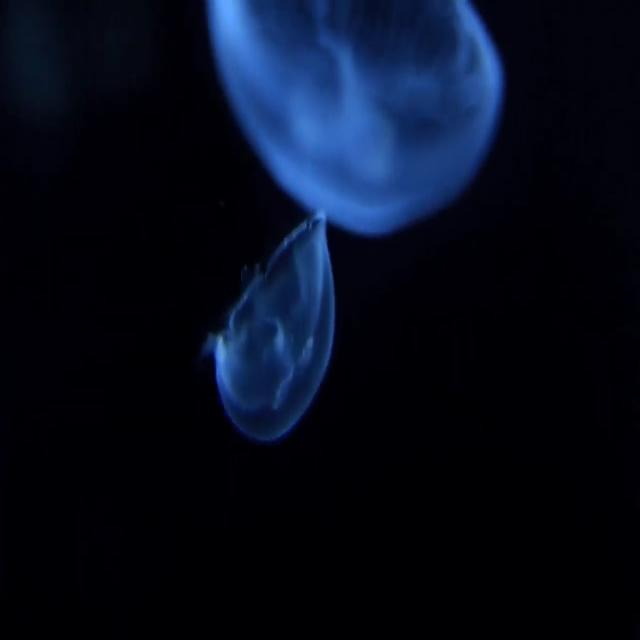Moon-jellyfish: (204, 0, 506, 239), (206, 213, 339, 448)
